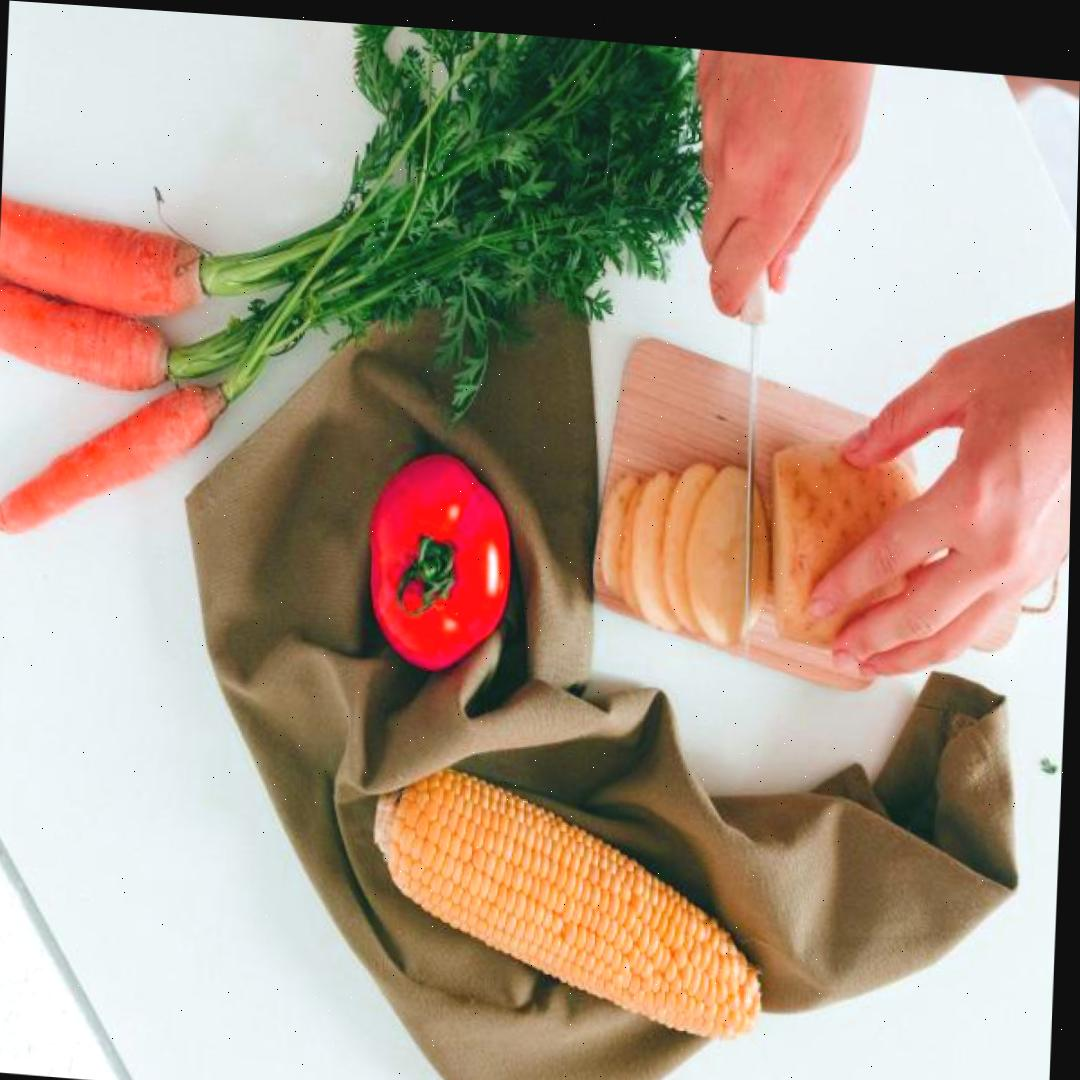matang: (366, 447, 513, 677)
